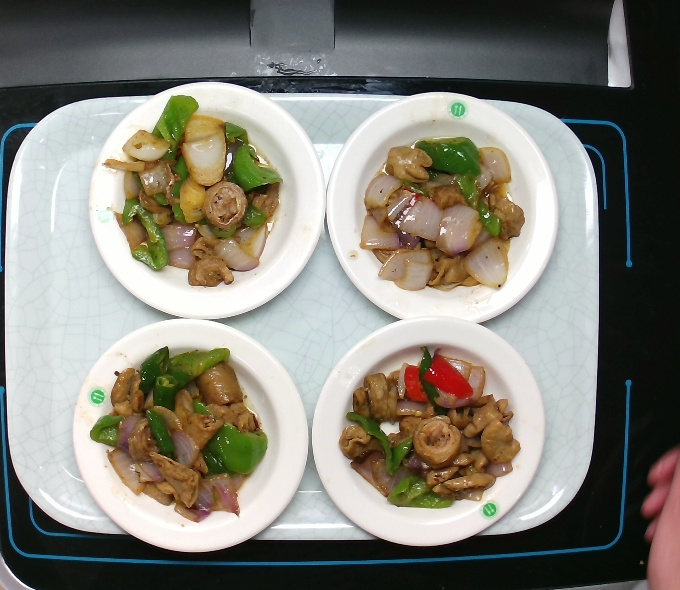wcq-QingJiaoChaoDaChang: (99, 88, 305, 302), (345, 107, 542, 297), (86, 331, 276, 521), (335, 333, 526, 522)
